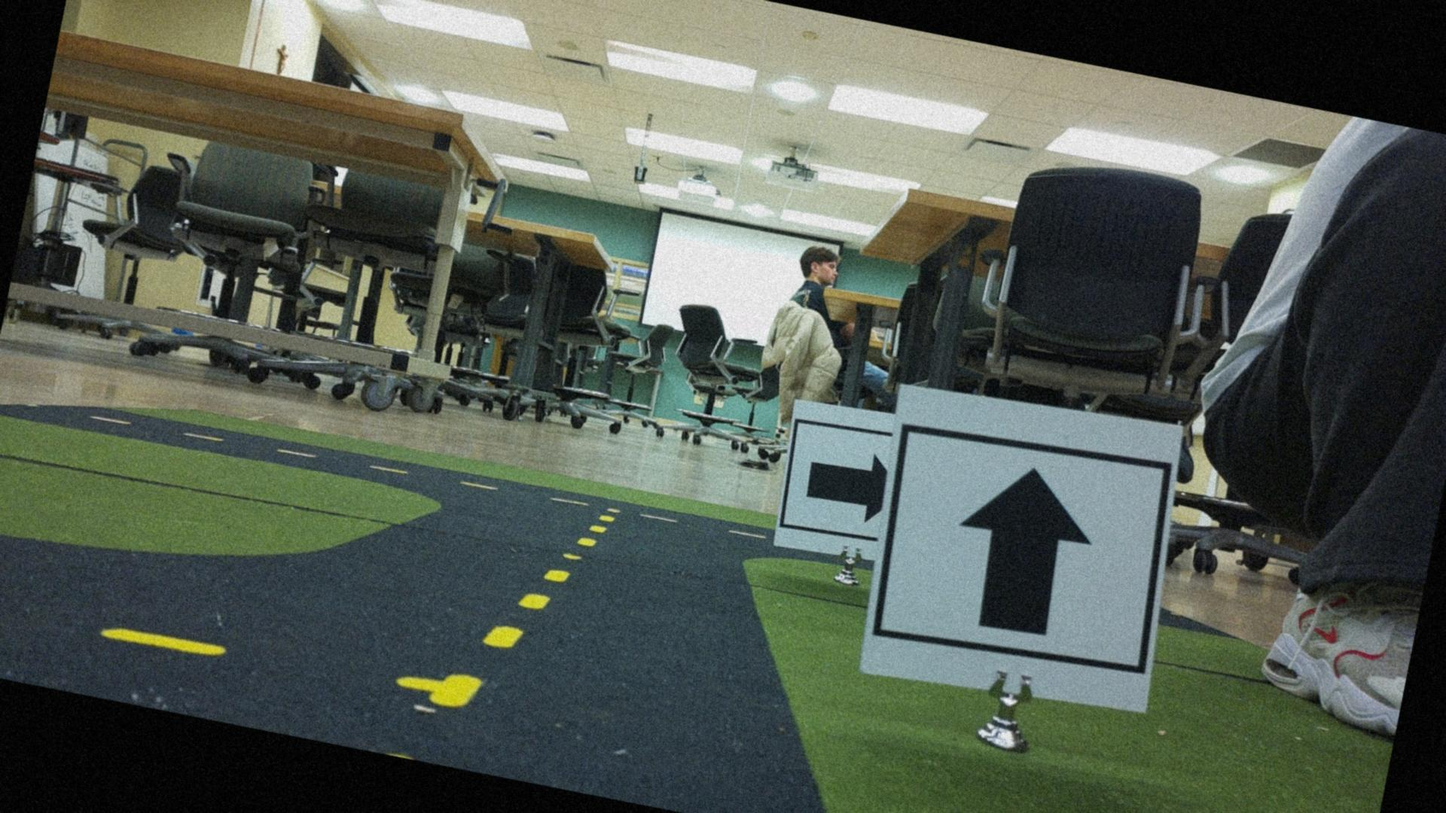gostraight: (869, 386, 1191, 718)
turnleft: (768, 422, 892, 550)
yellowline: (435, 479, 618, 732)
